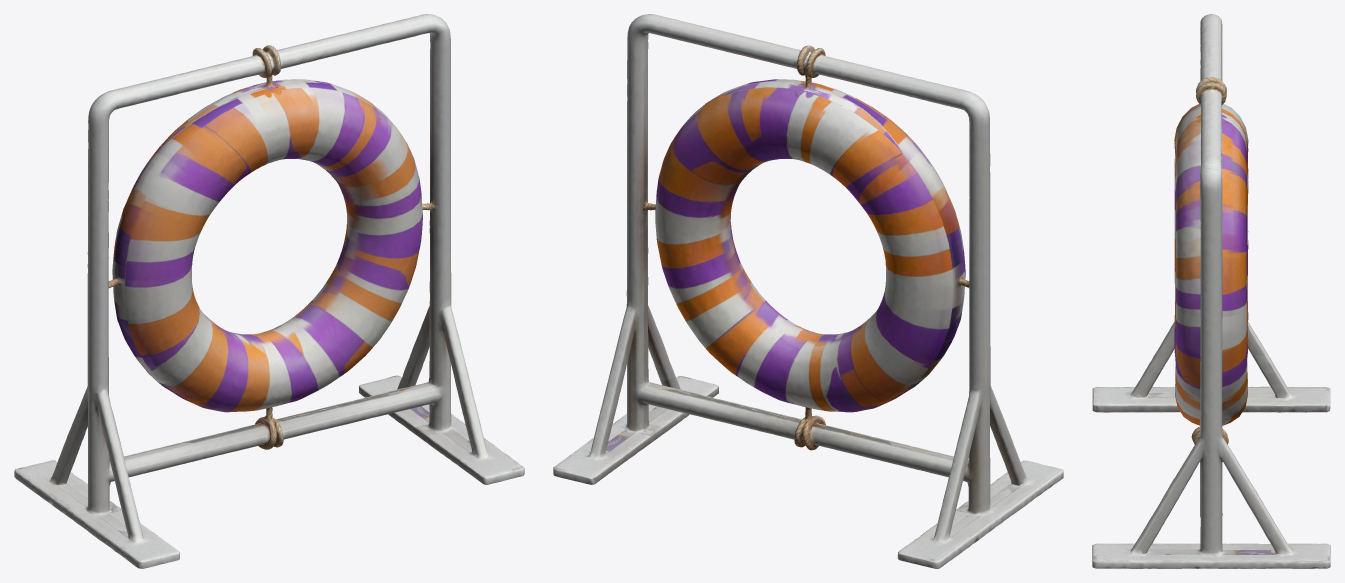
The model's file is Agility_Hoop.fbx.
The picture shows the model from 3 angles, left to right: view 1: azimuth 30°, elevation 25°; view 2: azimuth 150°, elevation 25°; view 3: azimuth 270°, elevation 25°; orthographic projection. The views are drawn at different scales.
Visible parts, largest first — view 1: texture_mapping; view 2: texture_mapping; view 3: texture_mapping.
Part boxes in pixels (bbox=[...]): texture_mapping: bbox=[14, 14, 524, 568]; texture_mapping: bbox=[553, 14, 1063, 568]; texture_mapping: bbox=[1092, 14, 1330, 568].
Size of the model in its own units: 0.9424 by 0.5404 by 1.
1 material, 1 textured.
